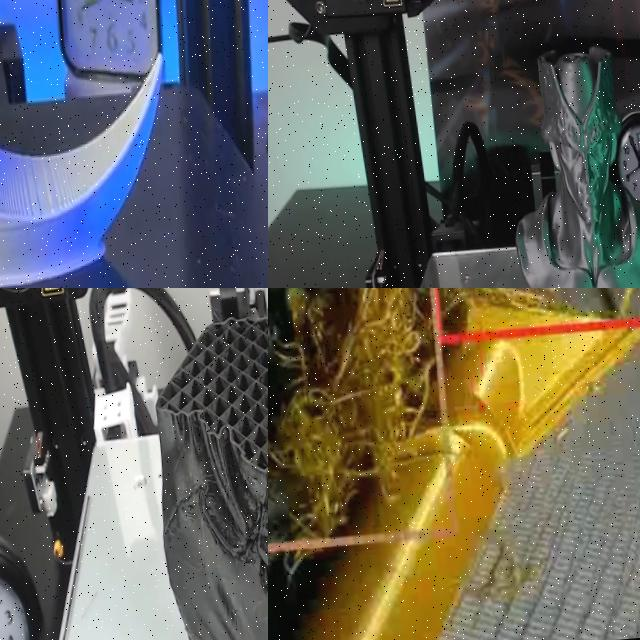spaghetti: (268, 288, 449, 542), (426, 288, 640, 331)
